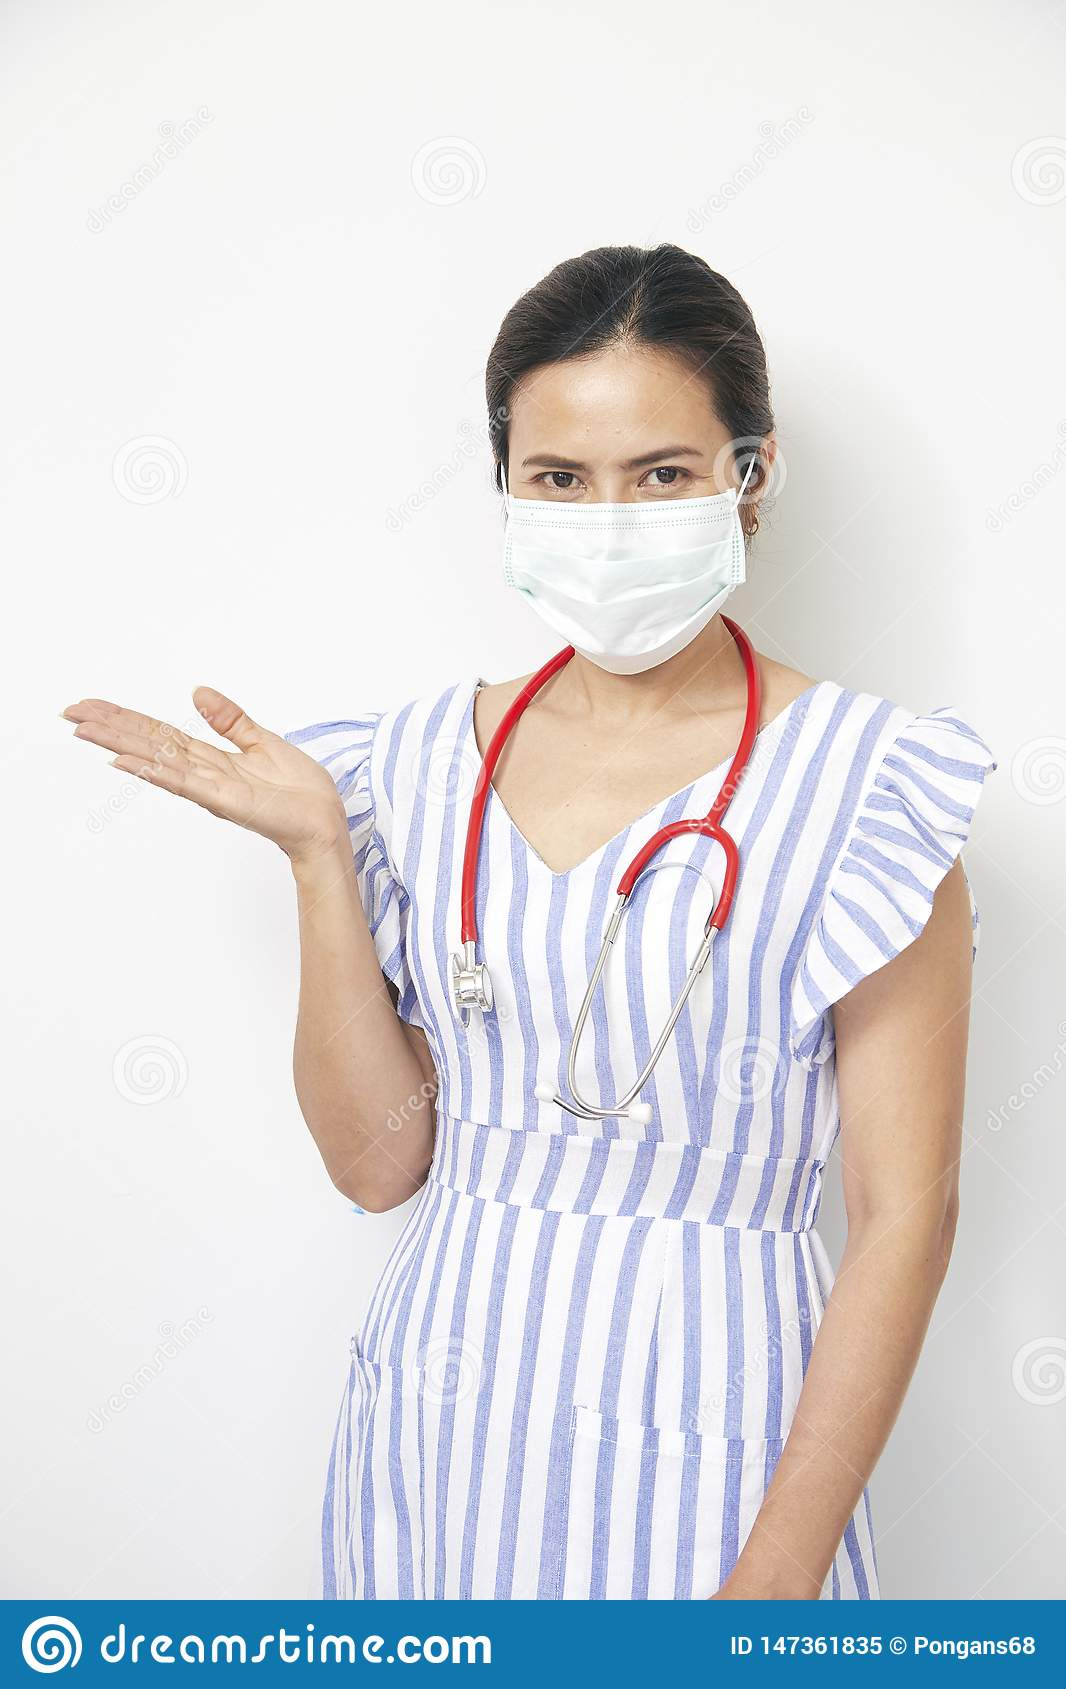mask: (488, 501, 770, 669)
